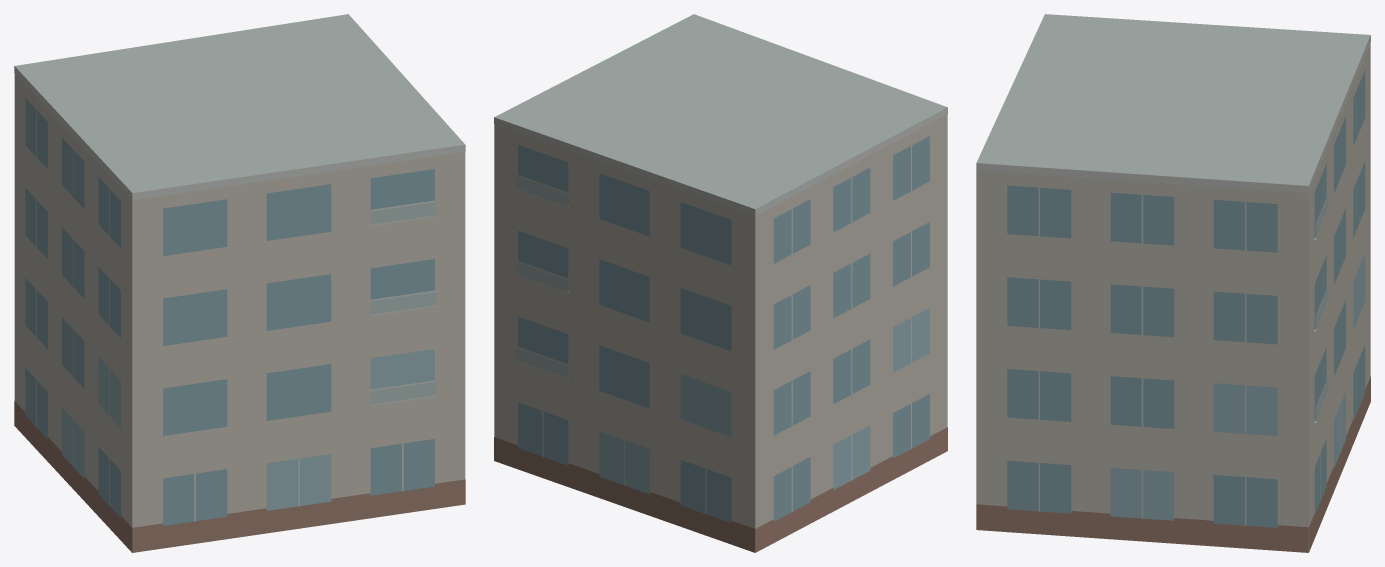
Rendered from survey-upis-32536981.glb.
3 renders of one model, left to right at view 1: azimuth 30°, elevation 25°; view 2: azimuth 150°, elevation 25°; view 3: azimuth 270°, elevation 25°, orthographic. The views are drawn at different scales.
Parts seen in each view (by area): view 1: survey-upis-32536981.tmp; view 2: survey-upis-32536981.tmp; view 3: survey-upis-32536981.tmp.
Boxes of the visible parts, x1,y1,x2,y2 form: survey-upis-32536981.tmp: (14, 14, 465, 552); survey-upis-32536981.tmp: (494, 14, 947, 552); survey-upis-32536981.tmp: (976, 14, 1370, 552).
Bounding box in the file's own units: 12.27 × 12.2 × 11.9.
